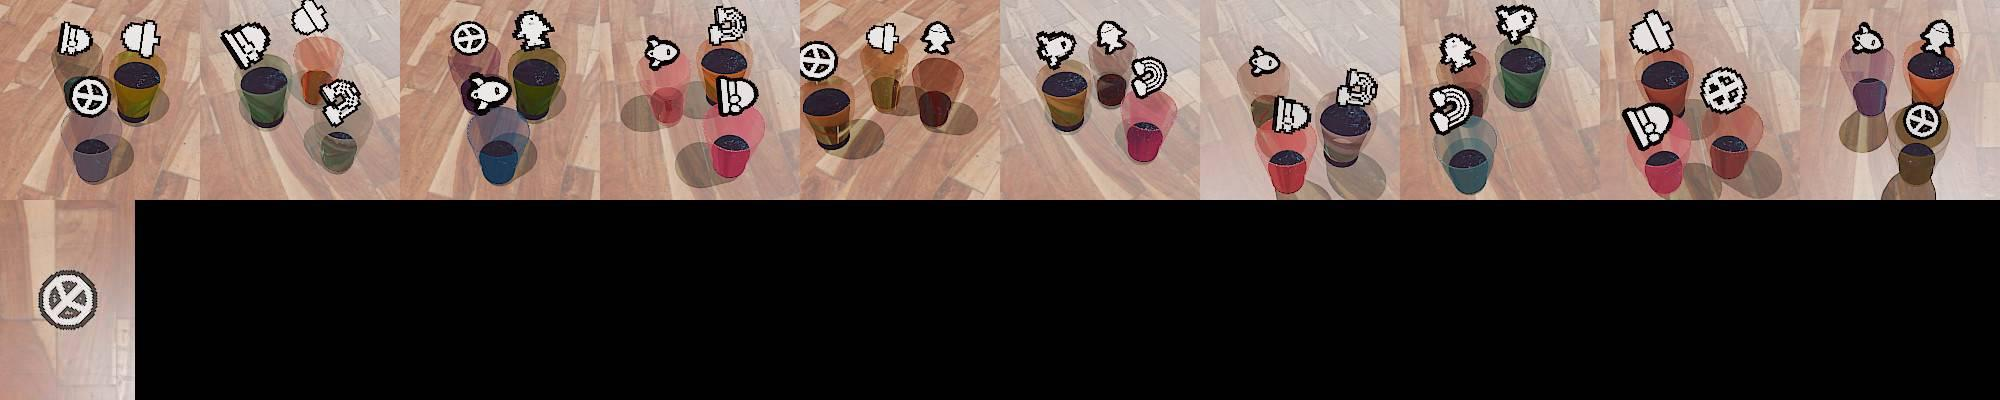icon: (33, 266, 102, 331), (219, 20, 270, 70), (1699, 65, 1749, 116), (1621, 103, 1672, 150), (462, 71, 513, 118), (319, 76, 362, 127), (1629, 9, 1677, 54), (64, 75, 111, 118), (714, 75, 758, 117), (511, 10, 555, 52), (1495, 3, 1537, 45), (708, 5, 750, 47), (1902, 101, 1944, 143), (1338, 66, 1379, 110), (1269, 96, 1312, 135), (1129, 55, 1167, 99), (1437, 32, 1478, 73), (1036, 29, 1077, 69), (120, 19, 159, 60), (798, 41, 838, 82), (291, 0, 329, 38), (57, 20, 94, 59), (450, 20, 489, 57), (1918, 19, 1955, 56), (643, 34, 680, 70), (920, 20, 955, 56), (865, 20, 901, 55), (1096, 20, 1129, 56), (1851, 22, 1885, 54), (1429, 104, 1466, 134), (1247, 46, 1281, 78)
